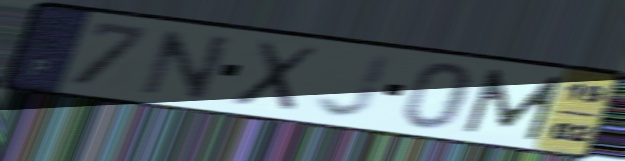0: (397, 59, 478, 131)
7: (66, 19, 153, 90)
J: (312, 52, 397, 120)
M: (460, 66, 568, 143)
N: (136, 27, 237, 104)
X: (226, 38, 325, 115)
